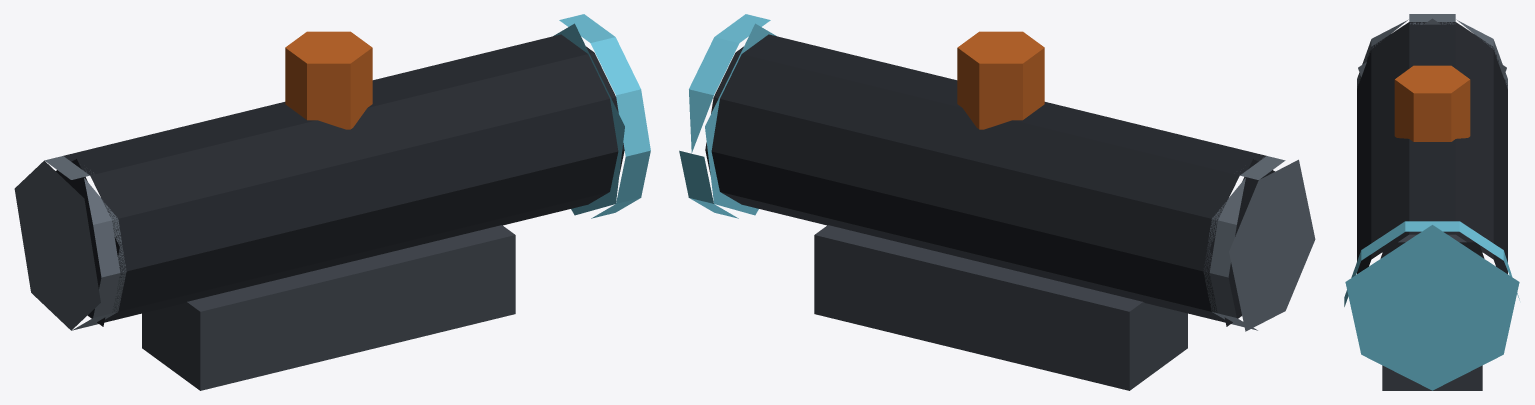
File: mod-scope.lod.glb
3 views of the same model, side by side, from view 1: azimuth 30°, elevation 25°; view 2: azimuth 150°, elevation 25°; view 3: azimuth 270°, elevation 25° (orthographic). The views are drawn at different scales.
Visible parts, largest first — view 1: m; view 2: m; view 3: m.
Boxes of the visible parts, x1,y1,x2,y2 form: m: [14, 14, 650, 390]; m: [679, 14, 1315, 390]; m: [1344, 14, 1519, 390].
Size of the model in its own units: 0.08 by 0.04 by 0.026.
